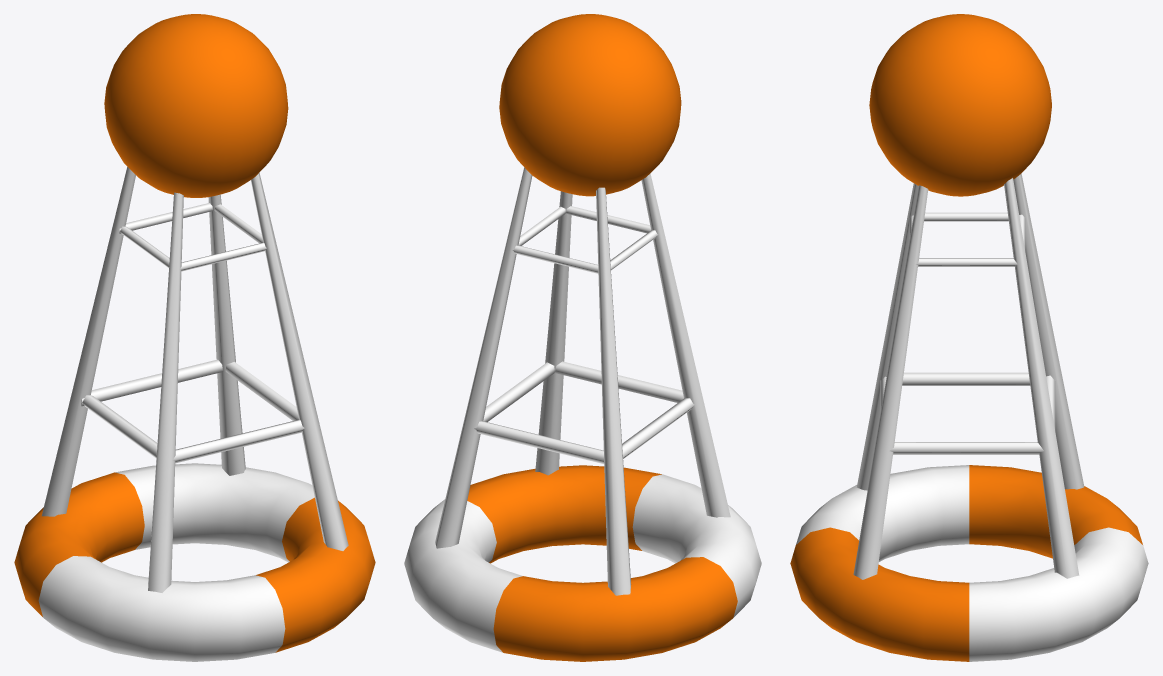
File: buoy.glb
3 renders of one model, left to right at view 1: azimuth 30°, elevation 25°; view 2: azimuth 150°, elevation 25°; view 3: azimuth 270°, elevation 25°, orthographic.
Visible parts, largest first — view 1: Torus001, Sphere001, Color A, Cylinder003, Cylinder002, Cylinder004, Cylinder001, Cylinder008, Cylinder006, Cylinder007, Cylinder005, Cylinder012 (+3 smaller); view 2: Color A, Sphere001, Torus001, Cylinder004, Cylinder001, Cylinder003, Cylinder002, Cylinder006, Cylinder008, Cylinder007, Cylinder005, Cylinder010 (+2 smaller); view 3: Sphere001, Torus001, Color A, Cylinder001, Cylinder002, Cylinder004, Cylinder003, Cylinder005, Cylinder007, Cylinder009, Cylinder011.
Boxes of the visible parts, x1,y1,x2,y2 form: Torus001: [38, 463, 314, 661]; Sphere001: [104, 14, 288, 197]; Color A: [14, 472, 375, 652]; Cylinder003: [148, 192, 183, 592]; Cylinder002: [251, 172, 348, 550]; Cylinder004: [41, 167, 135, 516]; Cylinder001: [208, 194, 245, 475]; Cylinder008: [172, 419, 304, 463]; Cylinder006: [81, 359, 223, 406]; Cylinder007: [82, 395, 157, 458]; Cylinder005: [225, 362, 298, 420]; Cylinder012: [180, 242, 266, 271]; Color A: [467, 465, 737, 661]; Sphere001: [499, 14, 681, 196]; Torus001: [404, 474, 761, 652]; Cylinder004: [596, 187, 631, 595]; Cylinder001: [435, 167, 532, 548]; Cylinder003: [641, 173, 730, 517]; Cylinder002: [535, 191, 572, 475]; Cylinder006: [474, 421, 604, 463]; Cylinder008: [554, 361, 683, 402]; Cylinder007: [622, 398, 694, 458]; Cylinder005: [483, 362, 554, 422]; Cylinder010: [512, 245, 598, 273]; Sphere001: [869, 14, 1051, 196]; Torus001: [796, 465, 1148, 661]; Color A: [790, 465, 1142, 661]; Cylinder001: [1004, 178, 1079, 578]; Cylinder002: [853, 185, 928, 579]; Cylinder004: [1013, 173, 1084, 489]; Cylinder003: [856, 183, 918, 490]; Cylinder005: [890, 442, 1043, 454]; Cylinder007: [902, 372, 1030, 385]; Cylinder009: [916, 258, 1017, 266]; Cylinder011: [924, 212, 1008, 221].
Size of the model in its own units: 65.62 by 116 by 65.62.
